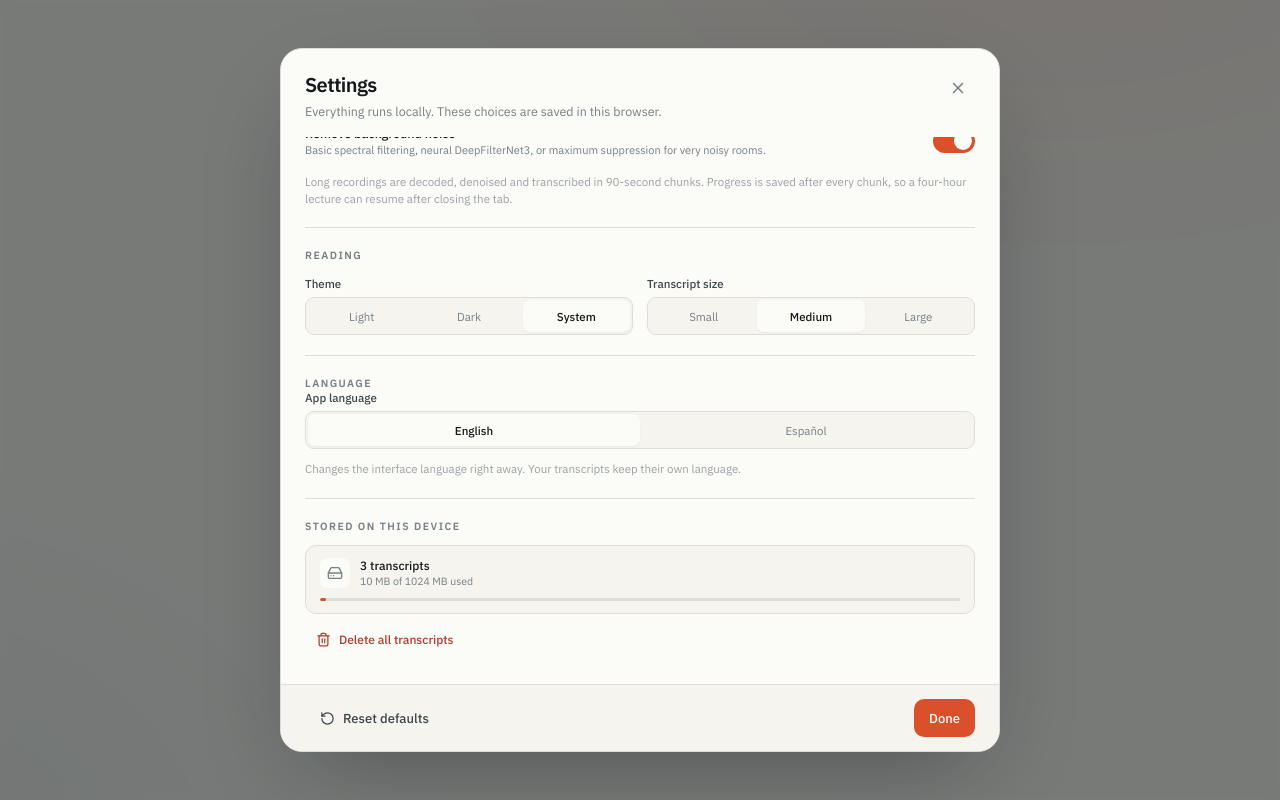
Scenario: SettingsDialog › switches the whole dialog to Spanish and back
Later steps or results of the test are not shown.
(page scrolled)
Click the radio button labelled "Español".
click(806, 430)  # box [640,414,972,446]
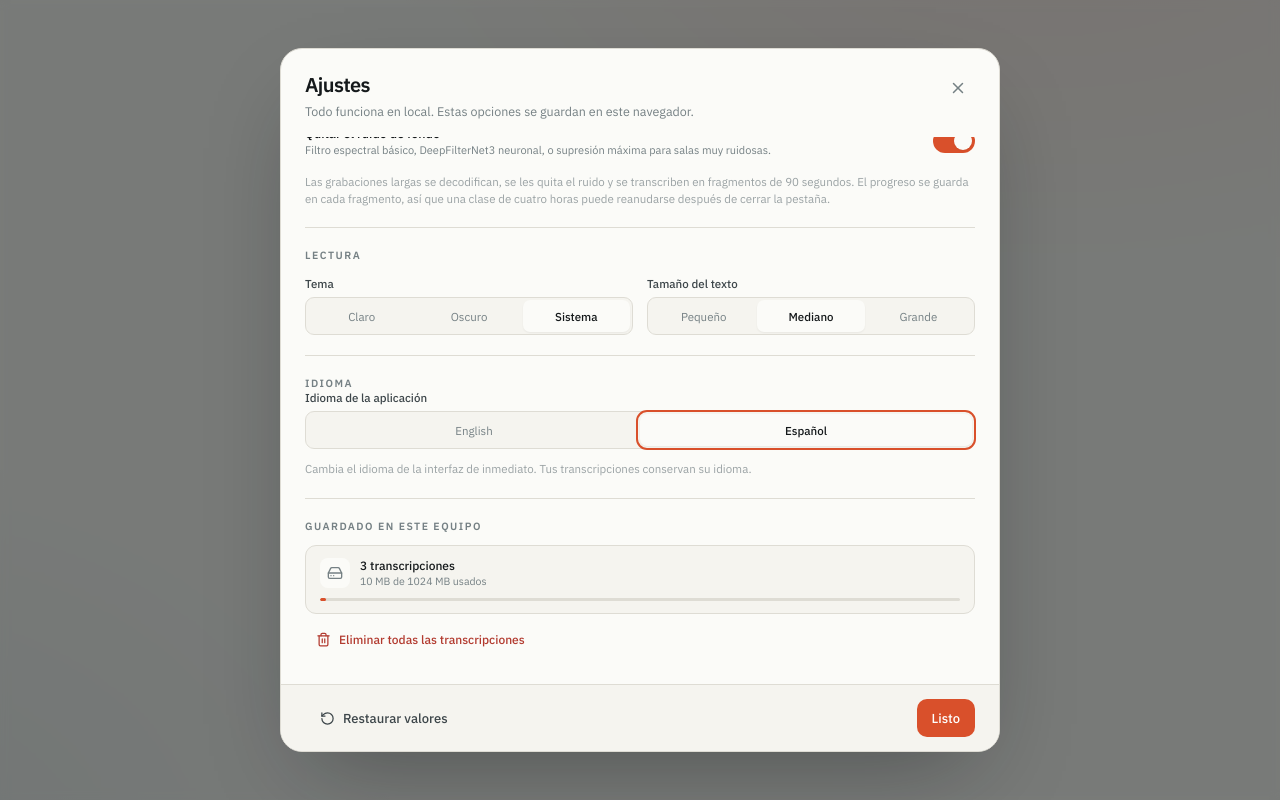
expect the heading "Ajustes" is shown: met, box [305,71,370,98]
